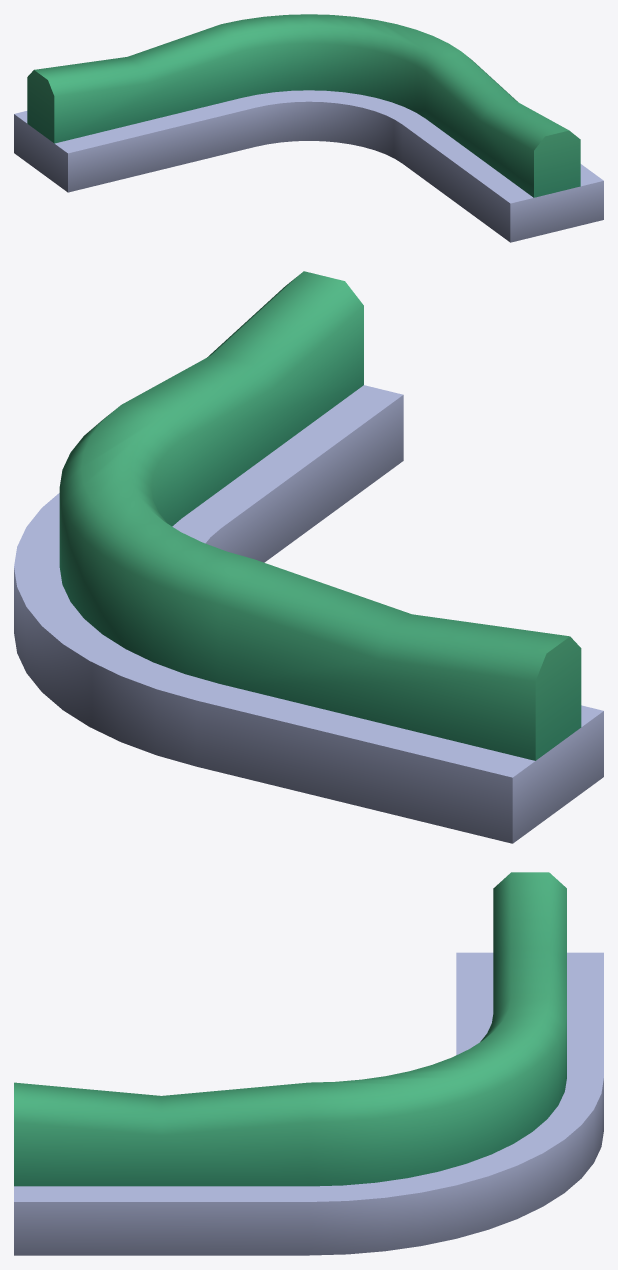
File: hedge-curved.glb
3 renders of one model, top to bottom at view 1: azimuth 30°, elevation 25°; view 2: azimuth 150°, elevation 25°; view 3: azimuth 270°, elevation 25°, orthographic. The views are drawn at different scales.
Parts seen in each view (by area): view 1: hedge-curved; view 2: hedge-curved; view 3: hedge-curved.
Part boxes in pixels (<box>): hedge-curved: <box>14,14,603,242</box>; hedge-curved: <box>14,271,603,843</box>; hedge-curved: <box>14,872,603,1255</box>.
Size of the model in its own units: 1 by 0.25 by 1.
1 material, 1 textured.
